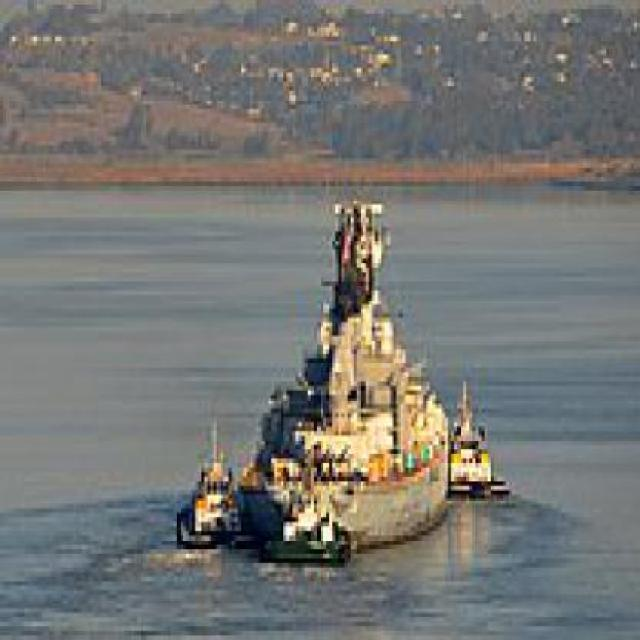warship2: (218, 183, 486, 577)
